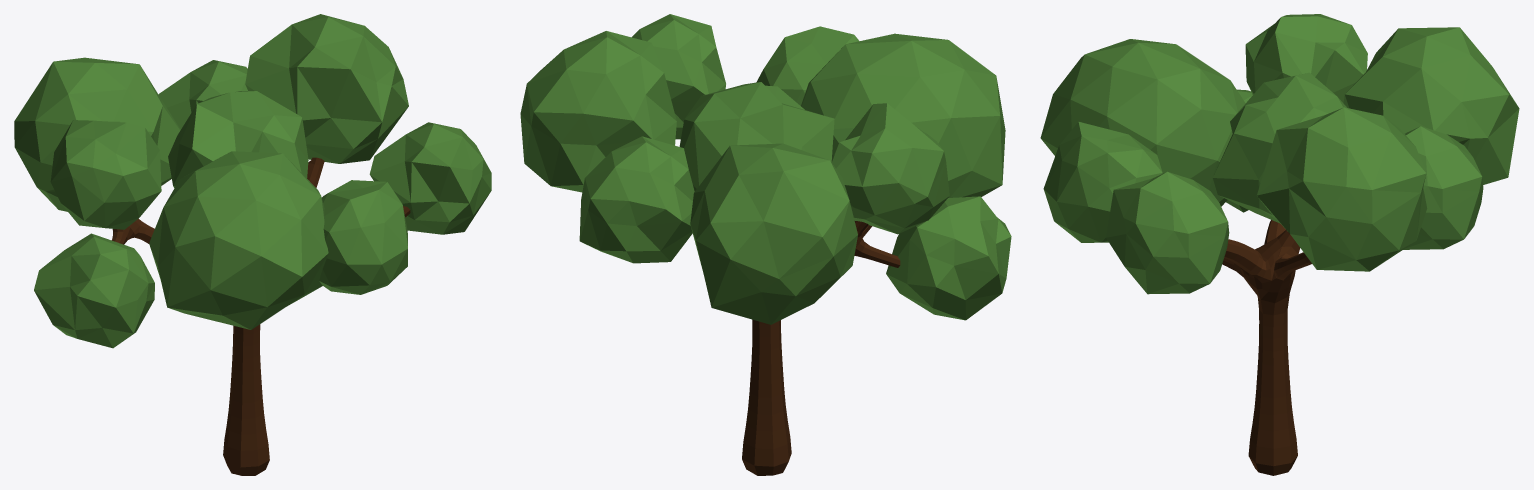
File: Arbre.fbx
3 views of the same model, side by side, from view 1: azimuth 30°, elevation 25°; view 2: azimuth 150°, elevation 25°; view 3: azimuth 270°, elevation 25° (orthographic). The views are drawn at different scales.
Parts seen in each view (by area): view 1: Icosphere.006, Icosphere.005, Icosphere.004, Icosphere.007, Icosphere.002, Icosphere.001, Icosphere, Icosphere.008, Plane, Icosphere.003; view 2: Icosphere.004, Icosphere.006, Icosphere.005, Icosphere.003, Icosphere.002, Icosphere.007, Icosphere.008, Plane, Icosphere.001, Icosphere; view 3: Icosphere.005, Icosphere.006, Icosphere.004, Icosphere.001, Plane, Icosphere, Icosphere.008, Icosphere.007, Icosphere.003.
Part boxes in pixels (<box>): Icosphere.006: <box>149,151,328,329</box>; Icosphere.005: <box>245,14,408,163</box>; Icosphere.004: <box>14,57,180,211</box>; Icosphere.007: <box>50,120,161,229</box>; Icosphere.002: <box>34,233,154,348</box>; Icosphere.001: <box>369,122,491,234</box>; Icosphere: <box>319,180,407,294</box>; Icosphere.008: <box>168,91,308,187</box>; Plane: <box>111,157,410,475</box>; Icosphere.003: <box>158,60,247,129</box>; Icosphere.004: <box>690,143,857,324</box>; Icosphere.006: <box>801,33,1005,197</box>; Icosphere.005: <box>520,31,676,192</box>; Icosphere.003: <box>579,136,694,263</box>; Icosphere.002: <box>886,196,1011,320</box>; Icosphere.007: <box>832,103,949,234</box>; Icosphere.008: <box>679,82,834,191</box>; Plane: <box>742,221,900,475</box>; Icosphere.001: <box>632,14,725,139</box>; Icosphere: <box>756,26,859,105</box>; Icosphere.005: <box>1257,107,1427,271</box>; Icosphere.006: <box>1040,39,1245,206</box>; Icosphere.004: <box>1343,27,1519,184</box>; Icosphere.001: <box>1106,171,1229,294</box>; Plane: <box>1222,220,1311,475</box>; Icosphere: <box>1043,121,1162,242</box>; Icosphere.008: <box>1213,72,1346,223</box>; Icosphere.007: <box>1245,14,1367,102</box>; Icosphere.003: <box>1403,126,1483,249</box>.
Bounding box in the file's own units: 828 × 794 × 812.
